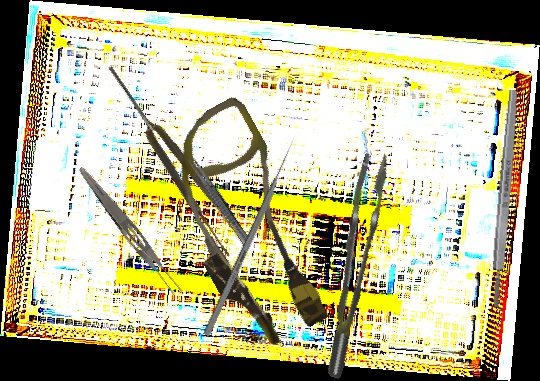Cannula: (139, 93, 354, 358)
Dressing Forceps: (72, 163, 186, 300), (182, 151, 255, 249)
Pusher: (203, 137, 298, 337)
Scalpel Handle: (488, 89, 521, 308)
Tissue Forceps: (99, 57, 248, 260), (296, 148, 411, 380)
